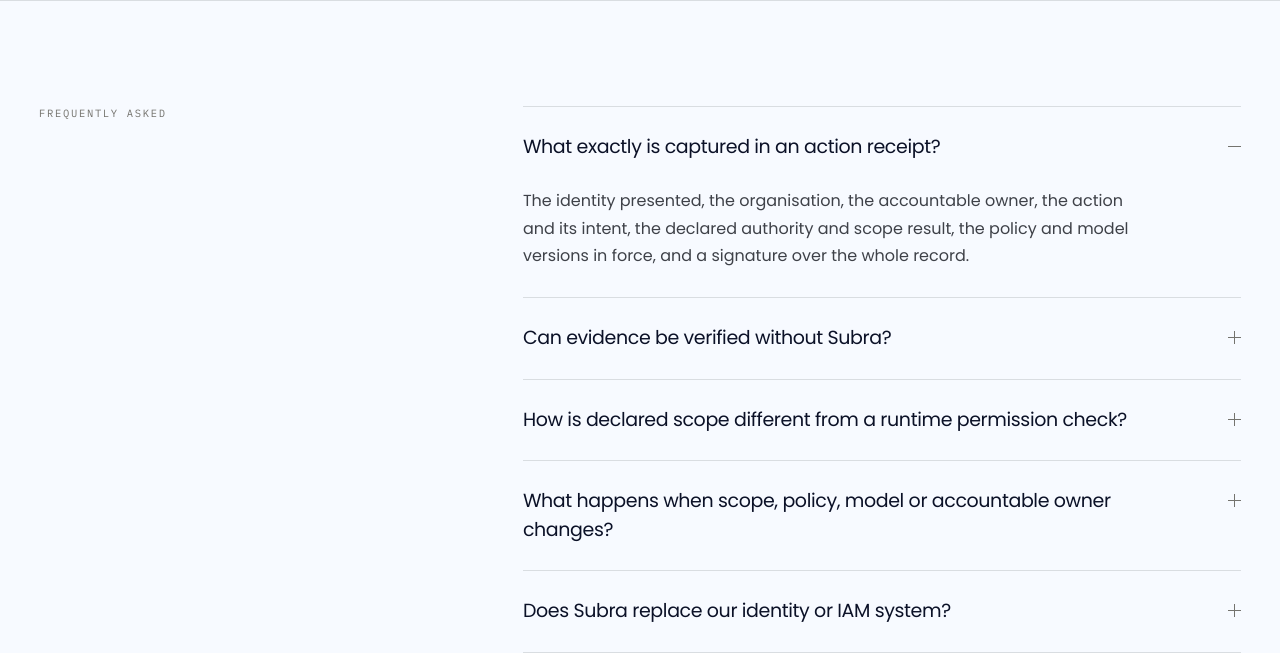
it: SiteFaq › opens the answer to the question that was asked
This screenshot has width=1280, height=653.
Click the button "Can evidence be verified without Subra?" at [882, 338], box [523,298,1241,378]
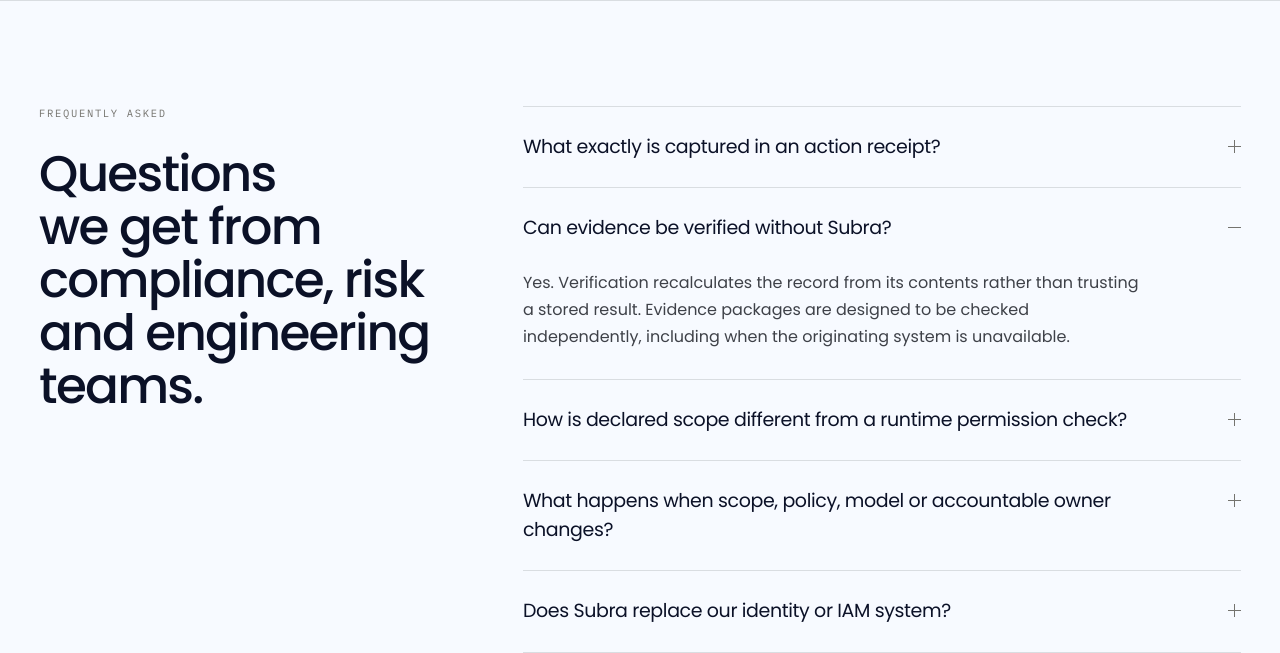
Now the button "Can evidence be verified without Subra?" is expanded, box [523,188,1241,269]
Now the text "Yes. Verification recalculates the record from its contents rather than trusting a stored result. Evidence packages are " is shown, box [523,271,1138,348]
